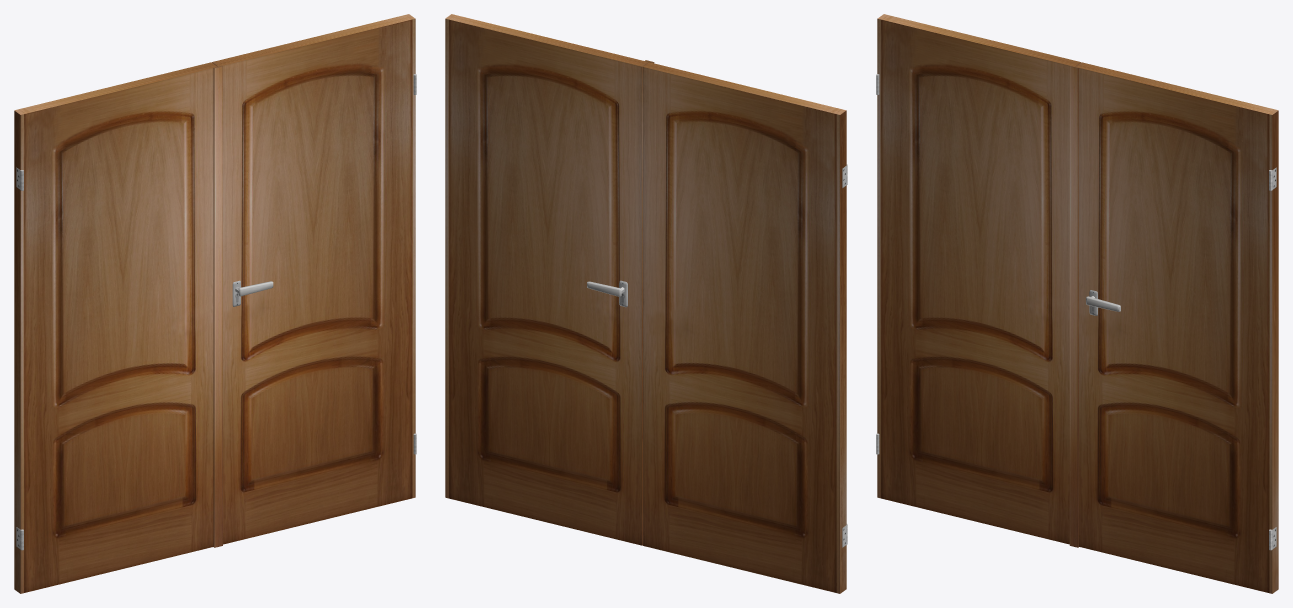
The model's file is DoorDouble.FBX.
3 views of the same model, side by side, from view 1: azimuth 30°, elevation 25°; view 2: azimuth 150°, elevation 25°; view 3: azimuth 330°, elevation 25° (orthographic).
Visible parts, largest first — view 1: DoorDouble, DoorDouble0; view 2: DoorDouble0, DoorDouble; view 3: DoorDouble, DoorDouble0.
Part boxes in pixels (bbox=[...]): DoorDouble: bbox=[212, 14, 416, 547]; DoorDouble0: bbox=[14, 62, 216, 593]; DoorDouble0: bbox=[643, 62, 847, 593]; DoorDouble: bbox=[445, 14, 654, 545]; DoorDouble: bbox=[1069, 62, 1278, 593]; DoorDouble0: bbox=[876, 14, 1080, 544].
Size of the model in its own units: 1681 by 1947 by 134.
